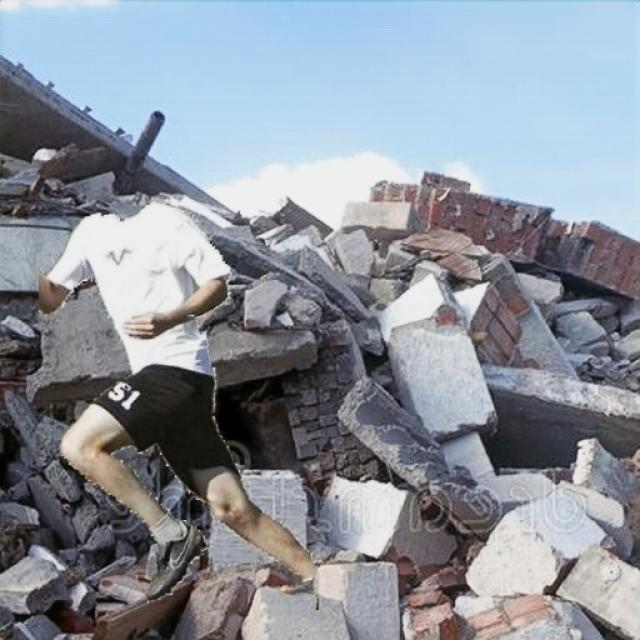Person in Rubble: (39, 201, 318, 609)
